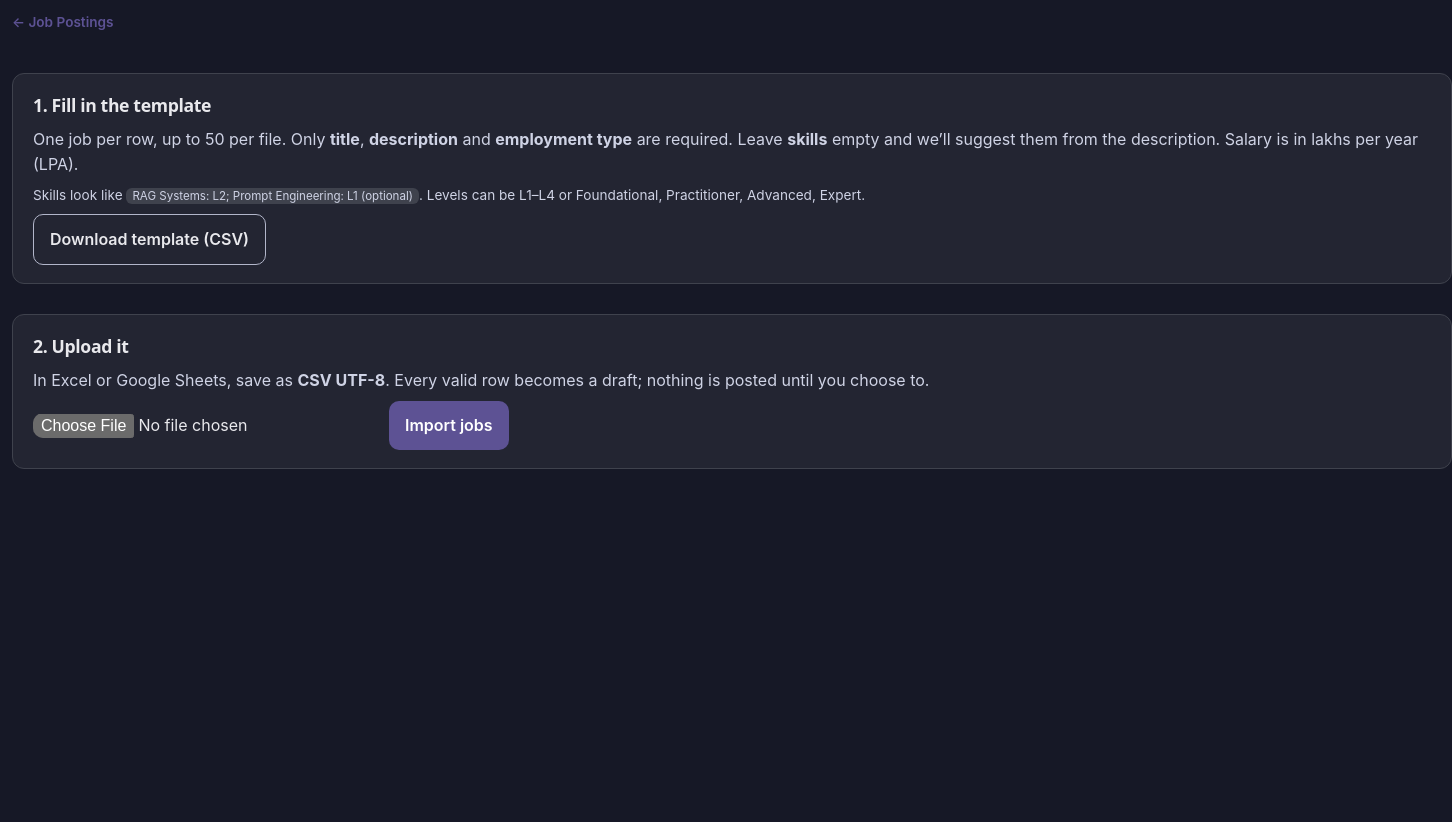
Test case: EmployerJobImport › uploads a file, lists skipped rows, and shows the drafts for review
Earlier steps of the test are not shown.
Later steps or results of the test are not shown.
Step 1. Click the button "Import jobs" → (449, 425), box [389,401,509,450]
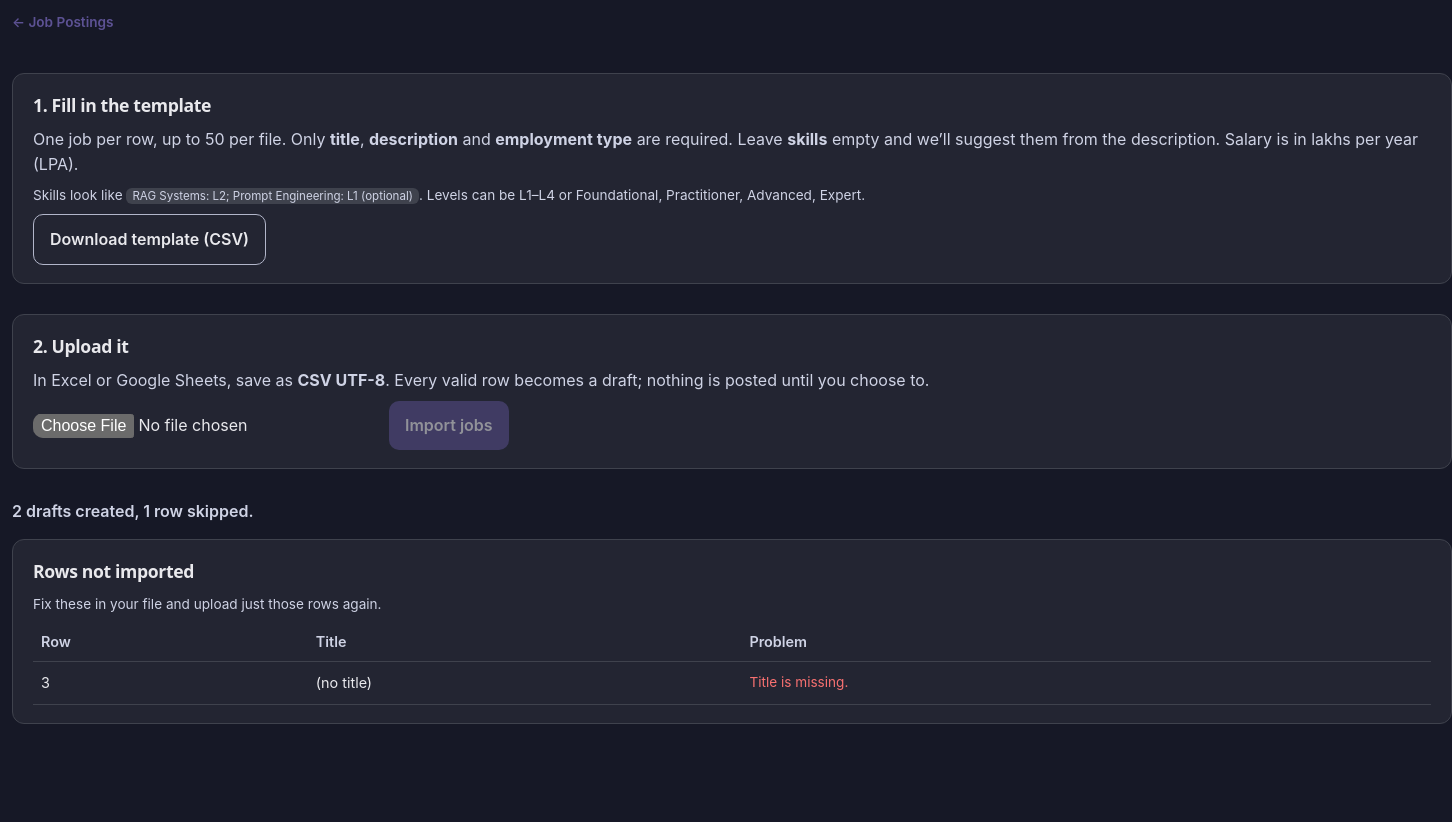
Check: the text "2 drafts created, 1 row skipped." is shown, box [12,501,254,521]
Check: the text "Title is missing." is shown, box [741,662,1431,705]
